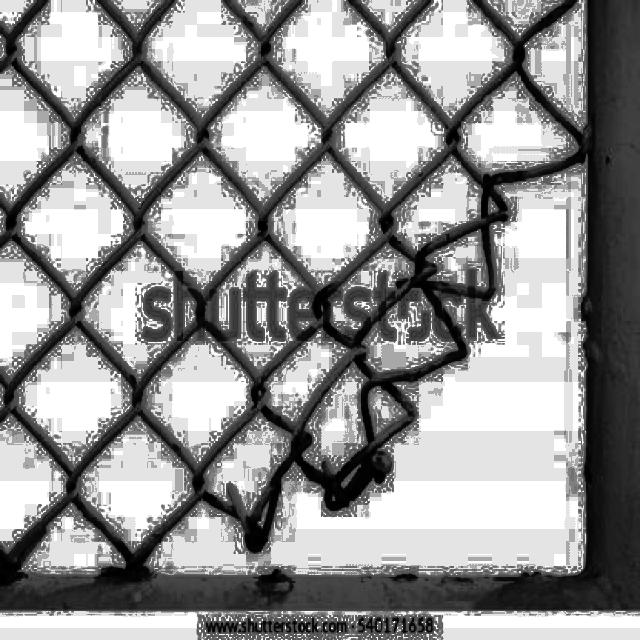anomaly-fence: (36, 0, 582, 589)
